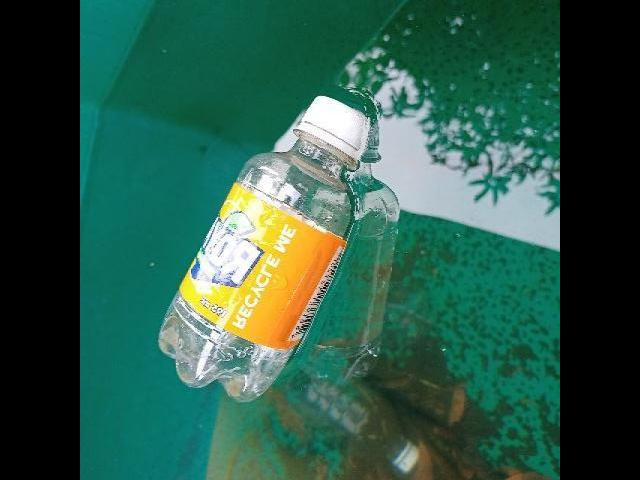Bottle: (153, 84, 377, 412)
